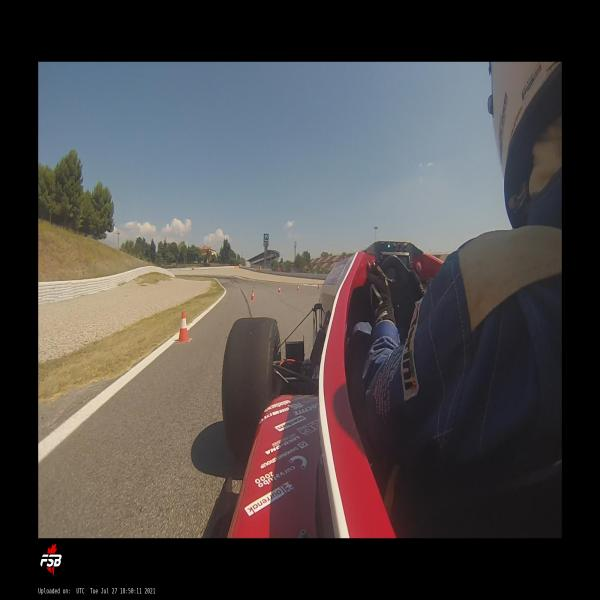orange_cone: (177, 311, 192, 343), (251, 289, 255, 301), (278, 286, 282, 294), (318, 284, 320, 290), (298, 285, 300, 291)
